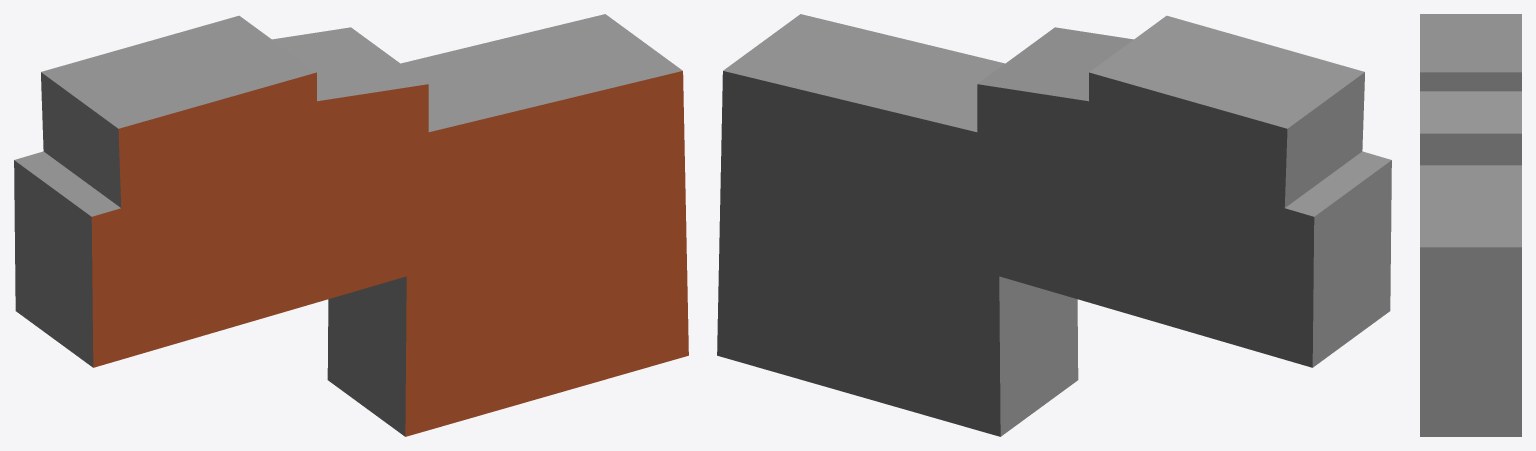
Rendered from construction_3455_assumed_A_Casa_h6m.obj.
The picture shows the model from 3 angles, left to right: view 1: azimuth 30°, elevation 25°; view 2: azimuth 150°, elevation 25°; view 3: azimuth 270°, elevation 25°; orthographic projection. The views are drawn at different scales.
Parts seen in each view (by area): view 1: construction_3455_assumed_A_Casa; view 2: construction_3455_assumed_A_Casa; view 3: construction_3455_assumed_A_Casa.
Boxes of the visible parts, <box> form: construction_3455_assumed_A_Casa: <box>14,14,688,436</box>; construction_3455_assumed_A_Casa: <box>717,14,1391,436</box>; construction_3455_assumed_A_Casa: <box>1420,14,1521,436</box>.
Bounding box in the file's own units: 26.64 × 16.46 × 6.
